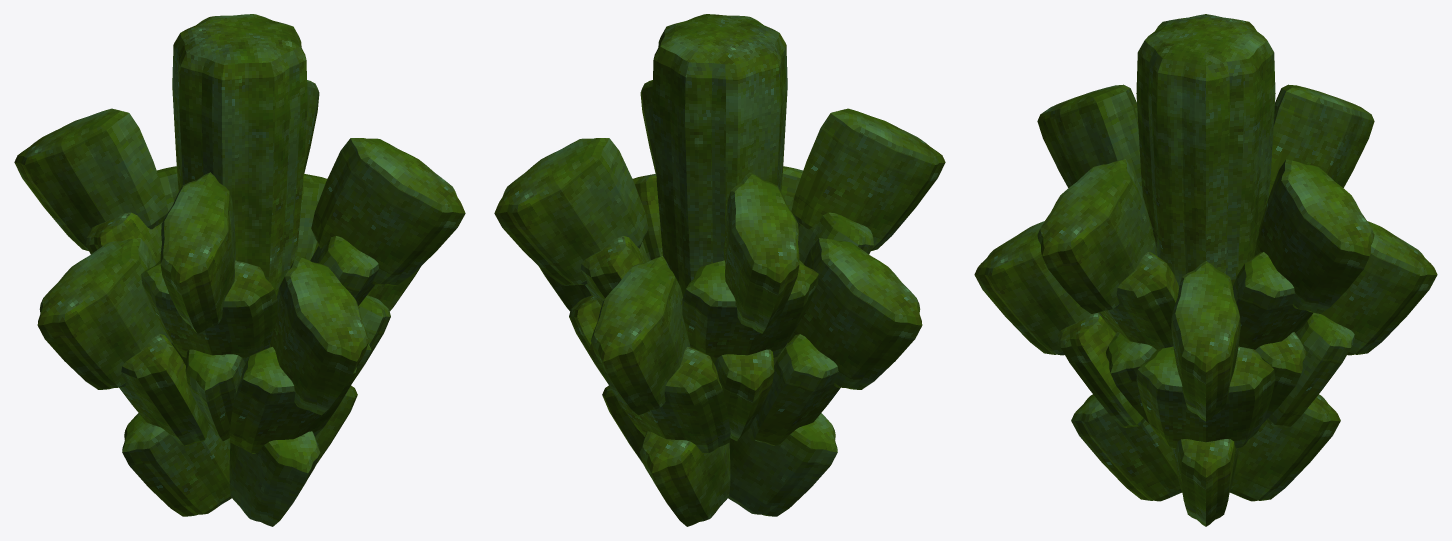
Rendered from Big_Cactus.fbx.
3 renders of one model, left to right at view 1: azimuth 30°, elevation 25°; view 2: azimuth 150°, elevation 25°; view 3: azimuth 270°, elevation 25°, orthographic.
Visible parts, largest first — view 1: Big_Cactus; view 2: Big_Cactus; view 3: Big_Cactus.
Part boxes in pixels (<box>): Big_Cactus: <box>14,14,465,526</box>; Big_Cactus: <box>494,14,945,526</box>; Big_Cactus: <box>974,14,1437,526</box>.
Bounding box in the file's own units: 287 × 322 × 287.
1 material, 1 textured.
